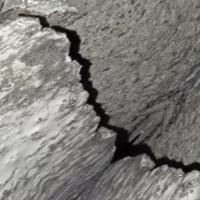crack: (5, 11, 199, 184)
